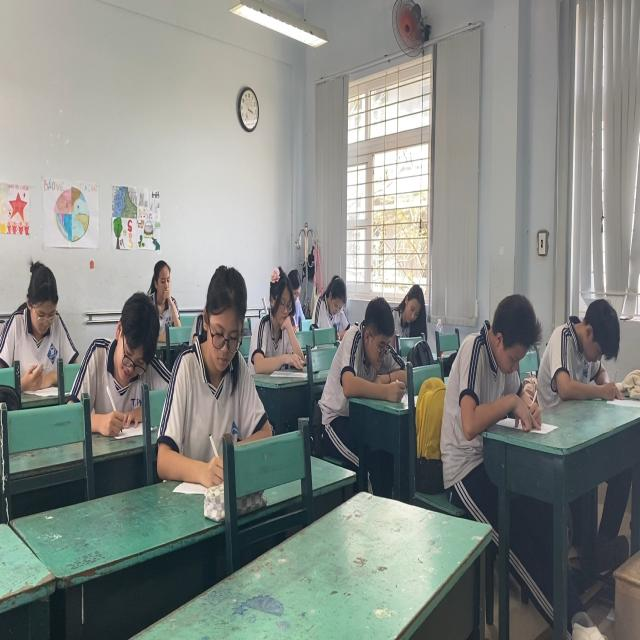not_cheating: (180, 266, 264, 448), (77, 293, 157, 425), (455, 283, 536, 411), (8, 255, 70, 393), (546, 290, 618, 407), (251, 270, 312, 393), (338, 300, 390, 383), (138, 256, 186, 335), (314, 279, 354, 335), (398, 289, 435, 332)
